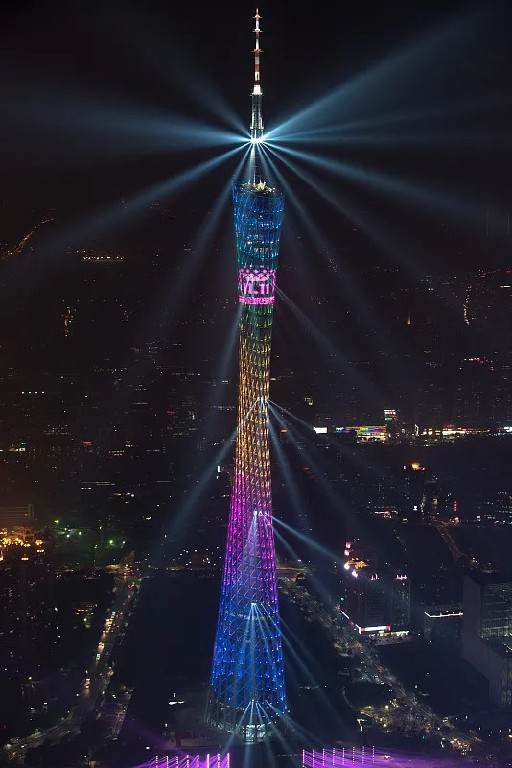Canton: (194, 4, 305, 731)
